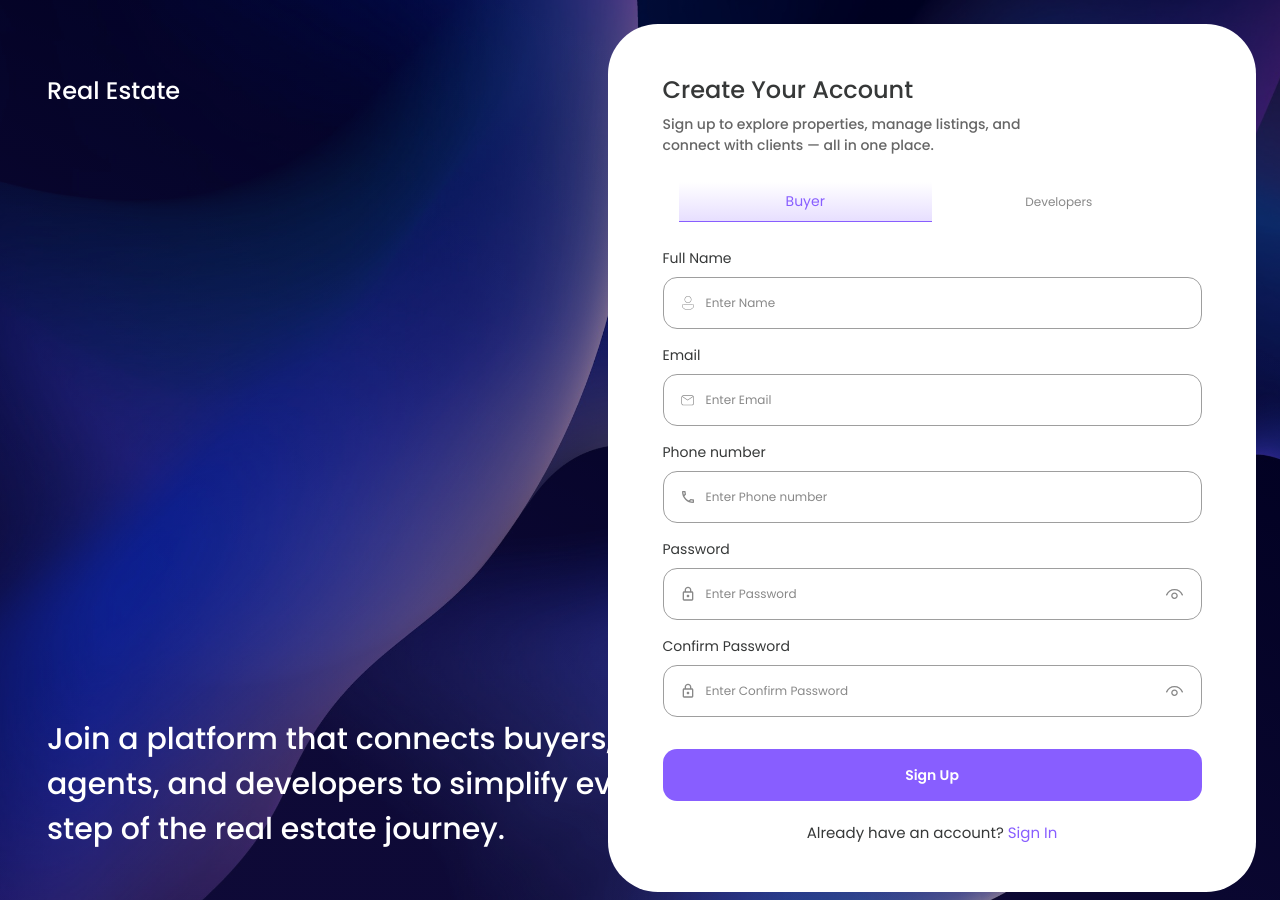
Scenario: SignUpPage › signs up a Buyer with the normalised body and opens Verify with the email
The width and height of the screenshot is (1280, 900).
In the field labelled "Full Name": x=945, y=303 [706,278,1184,328], type "Amira Khan"
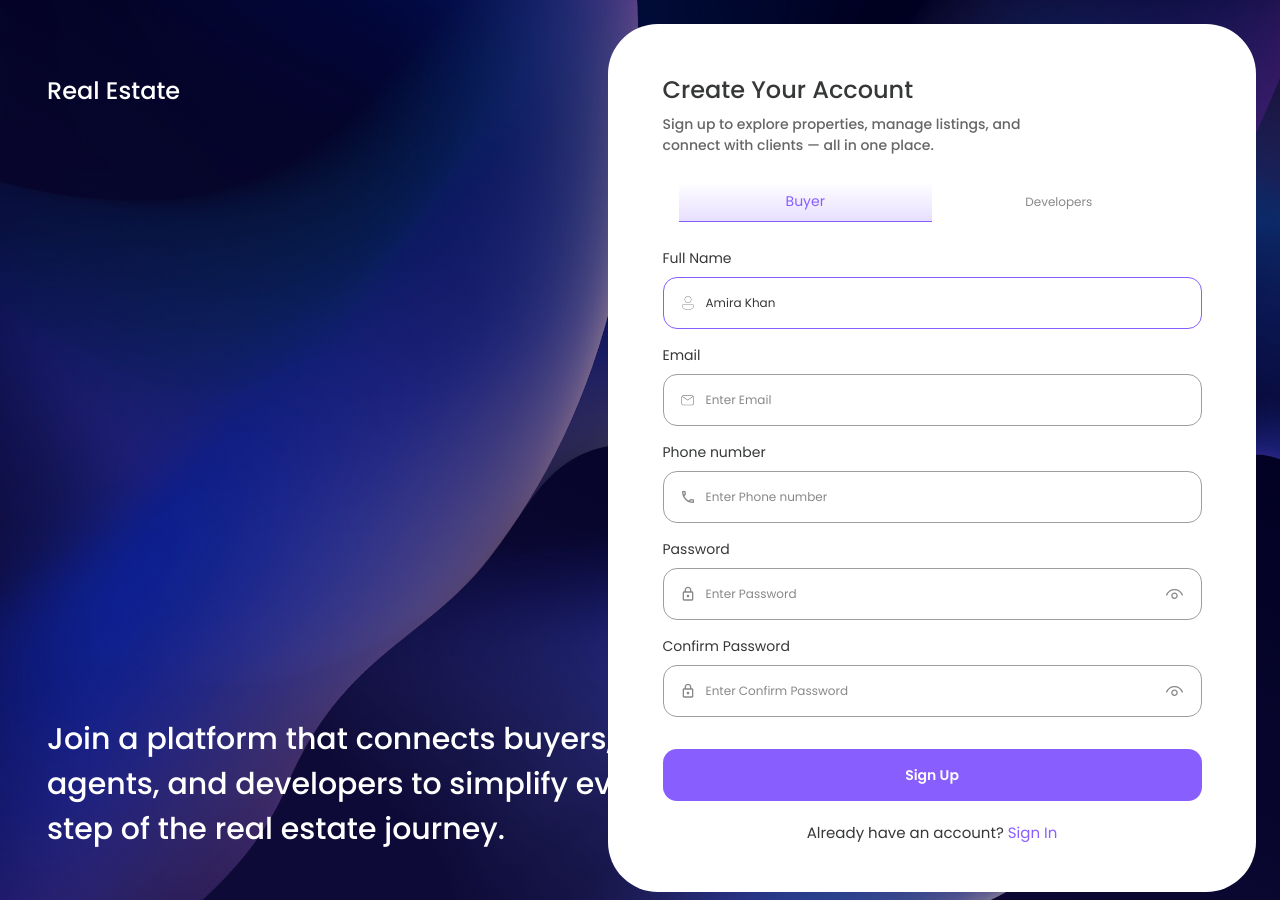
In the field labelled "Email": x=945, y=400 [706,375,1184,425], type "  New.Buyer@Example.TEST "
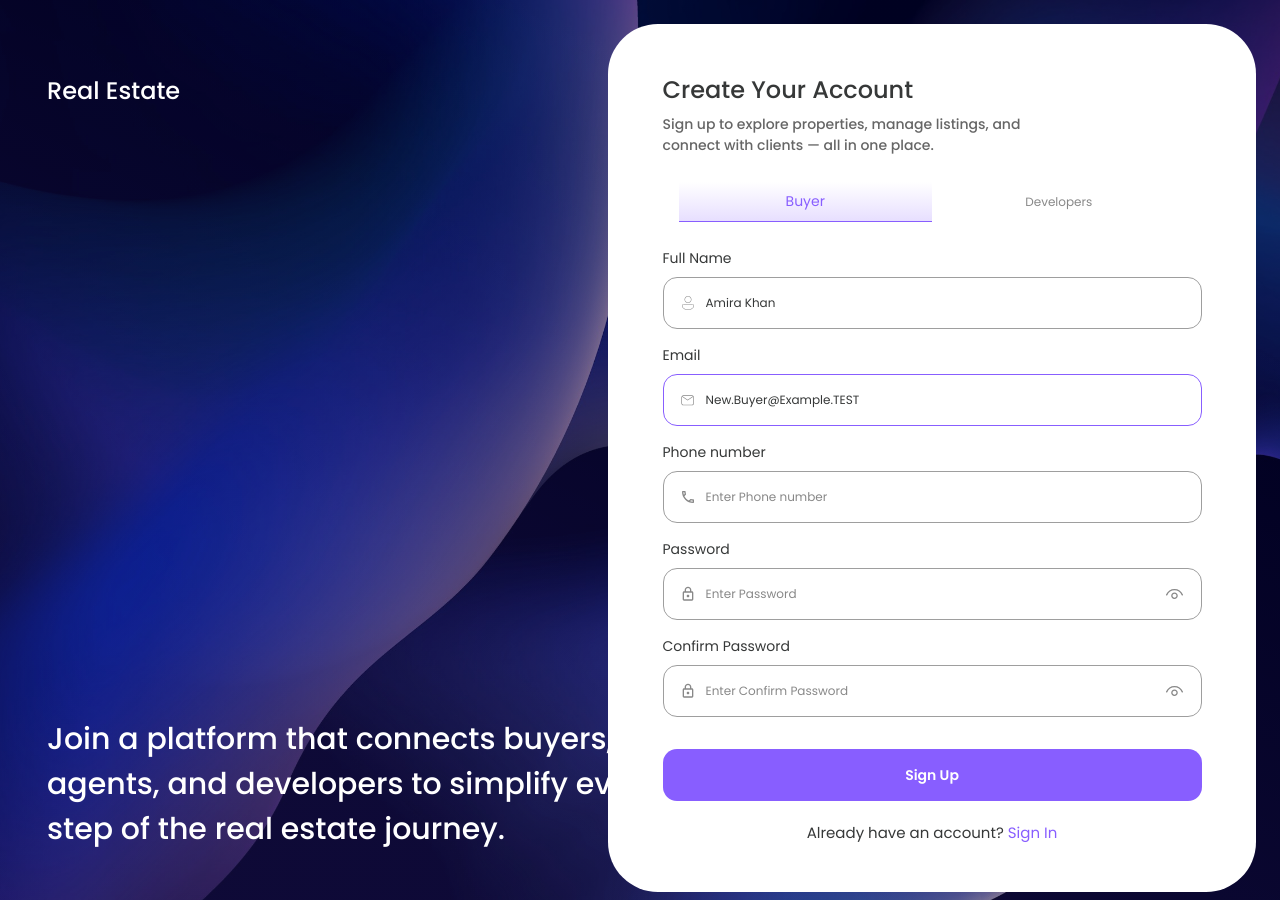
In the field labelled "Phone number": x=945, y=497 [706,472,1184,522], type "+971 50-123 4567"
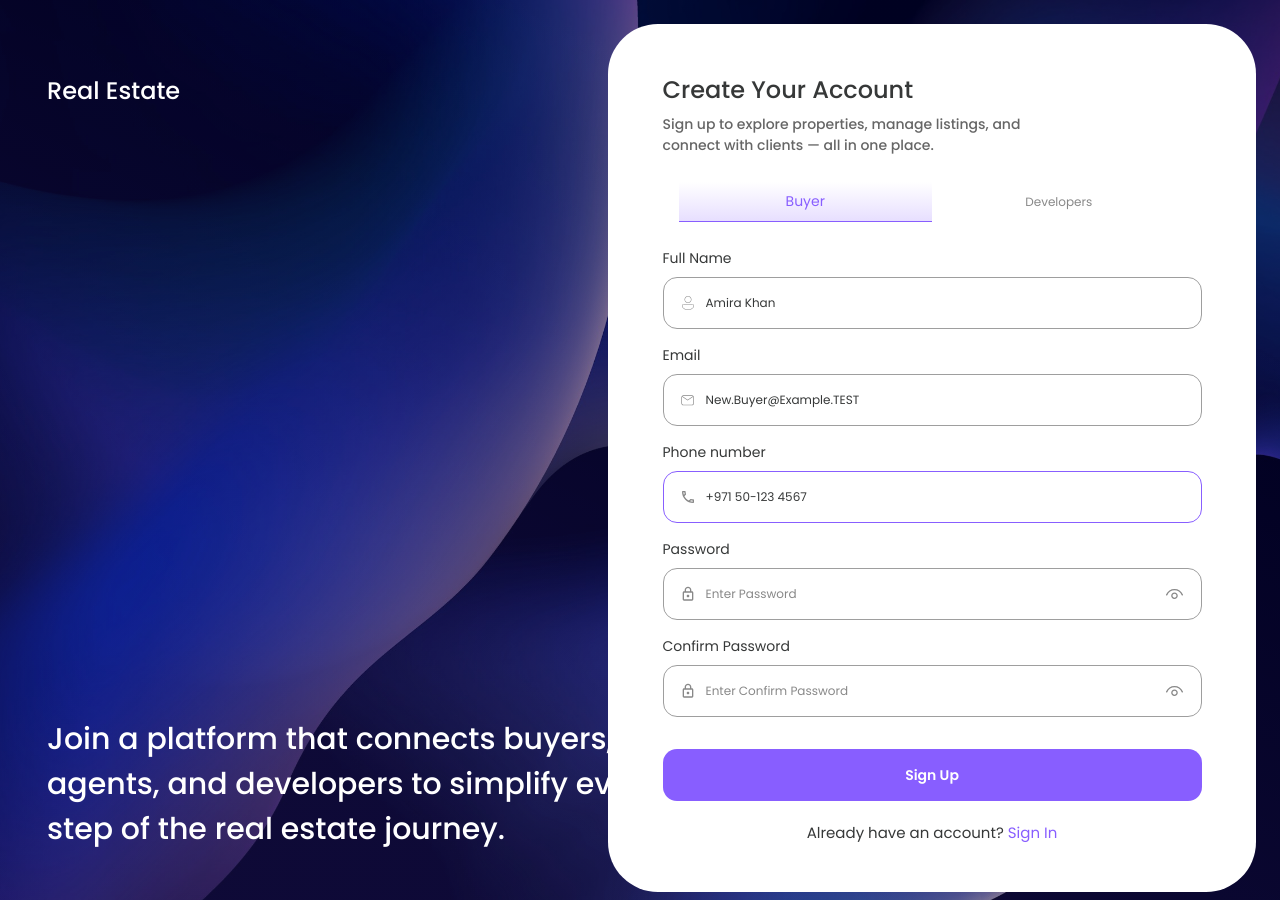
In the password field labelled "Password": x=930, y=594 [706,569,1154,619], type "secret123"
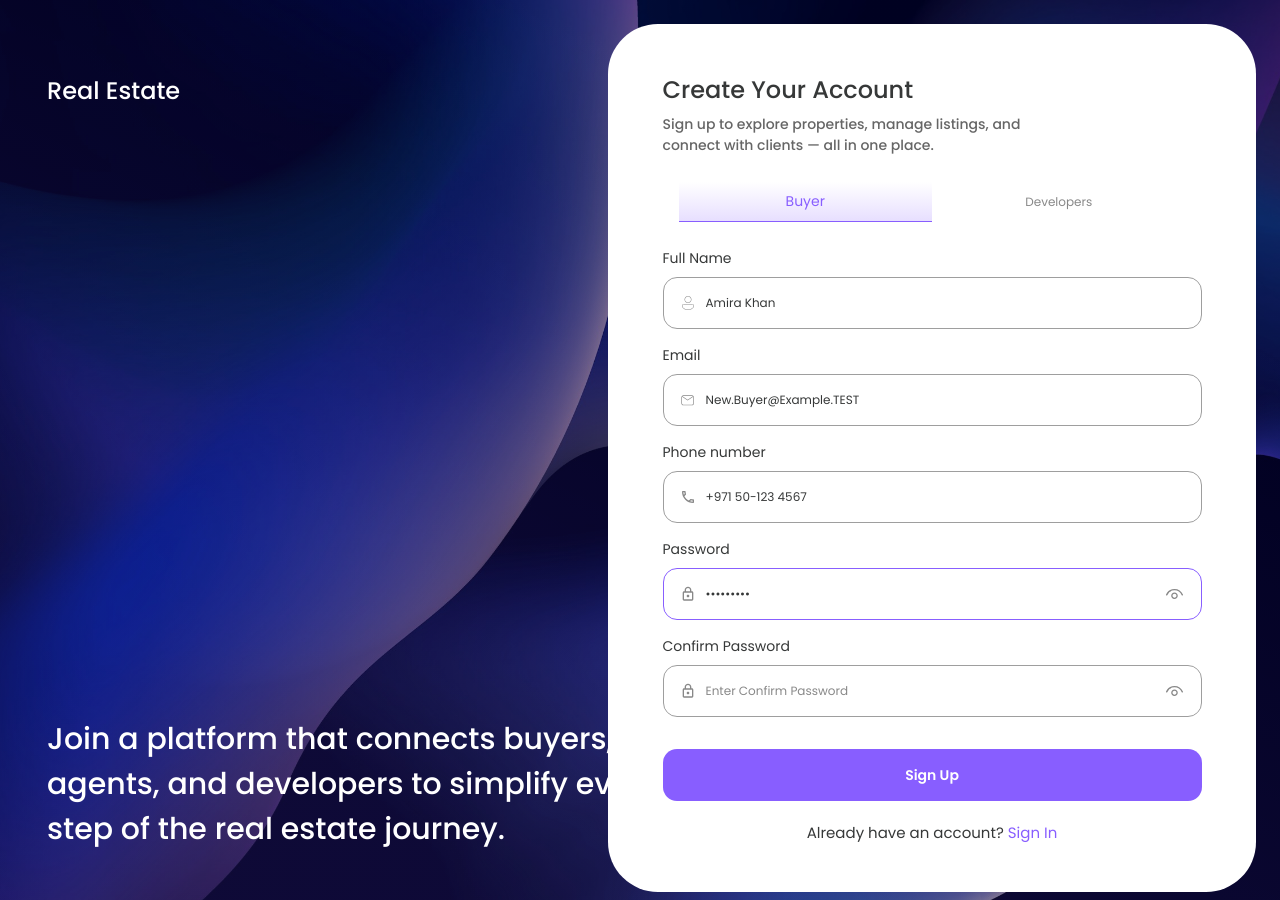
In the password field labelled "Confirm Password": x=930, y=691 [706,666,1154,716], type "secret123"
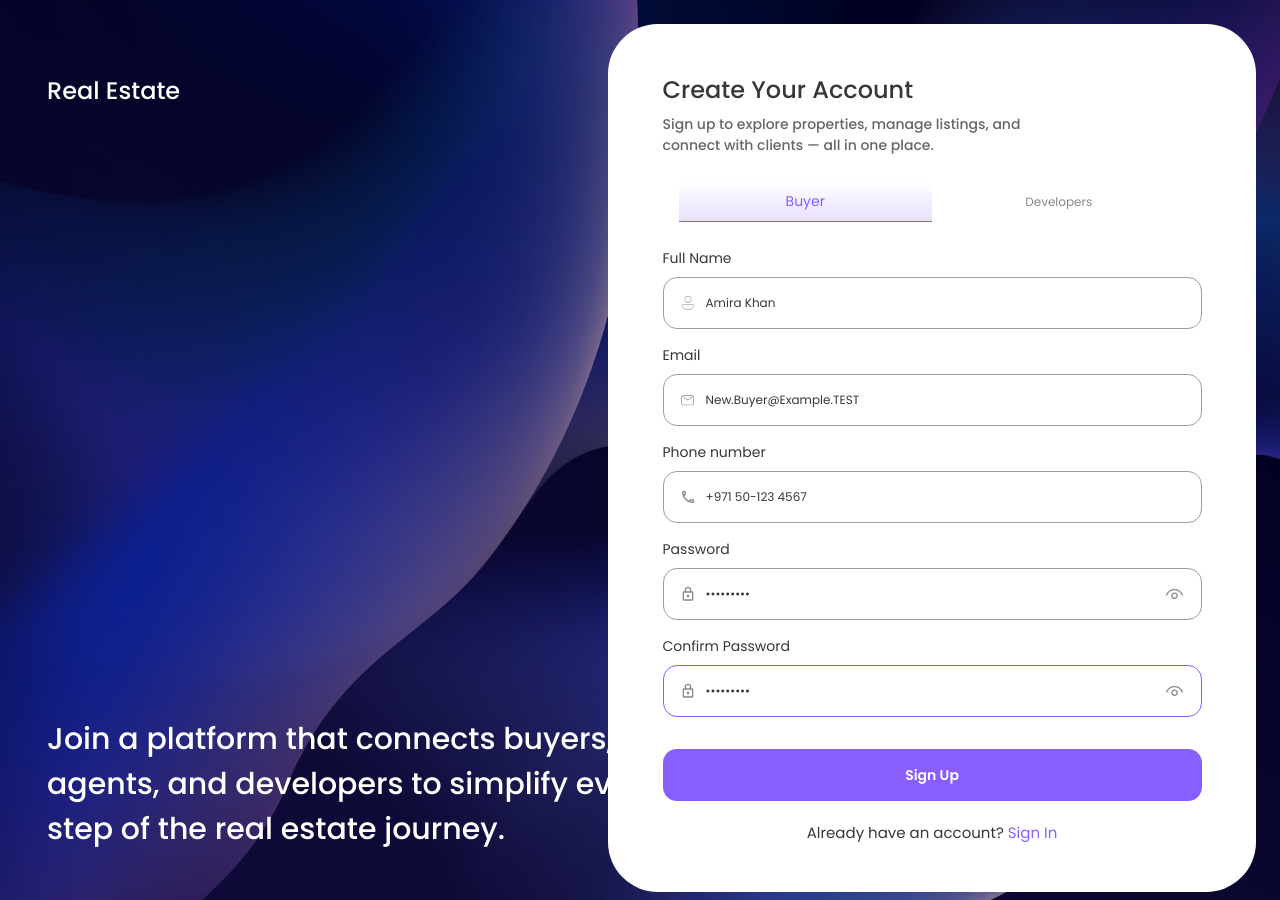
Click the button "Sign Up": x=932, y=775 [662,749,1202,801]
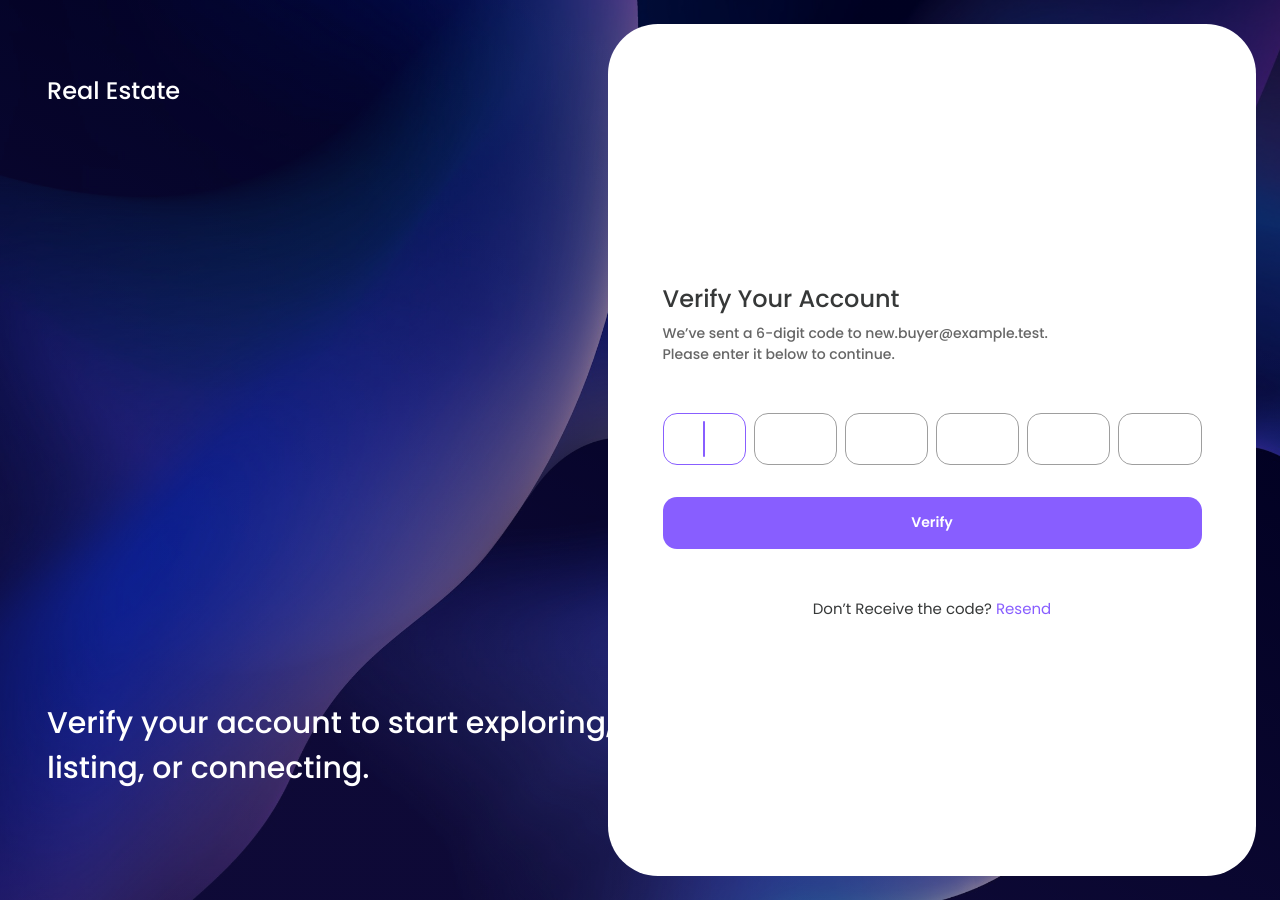
expect the heading "Verify Your Account" is shown: met, box [662,282,900,314]
